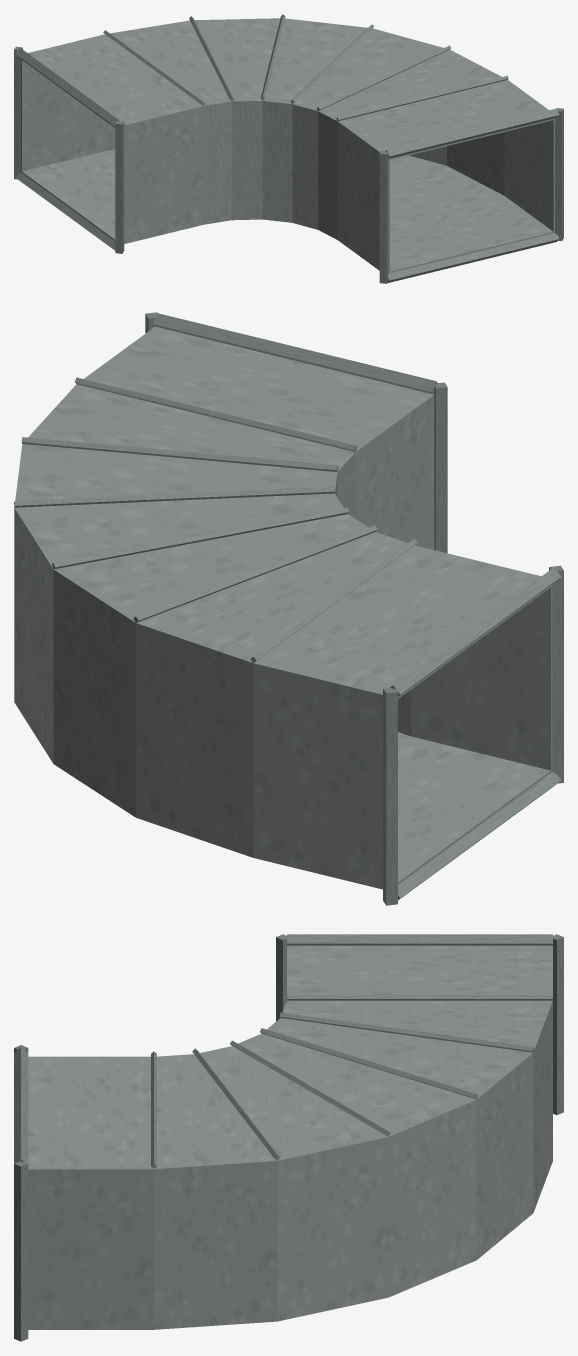
File: hvac_elbow_horizontal.glb
The picture shows the model from 3 angles, top to bottom: view 1: azimuth 30°, elevation 25°; view 2: azimuth 150°, elevation 25°; view 3: azimuth 270°, elevation 25°; orthographic projection. The views are drawn at different scales.
Parts seen in each view (by area): view 1: hvac_elbow_horizontal; view 2: hvac_elbow_horizontal; view 3: hvac_elbow_horizontal.
Part boxes in pixels (x1,y1,x2,y2): hvac_elbow_horizontal: [14, 14, 563, 283]; hvac_elbow_horizontal: [14, 312, 563, 905]; hvac_elbow_horizontal: [14, 934, 563, 1341].
Bounding box in the file's own units: 1.24 × 0.45 × 1.24.
Materials: 2 (2 with a texture image).
